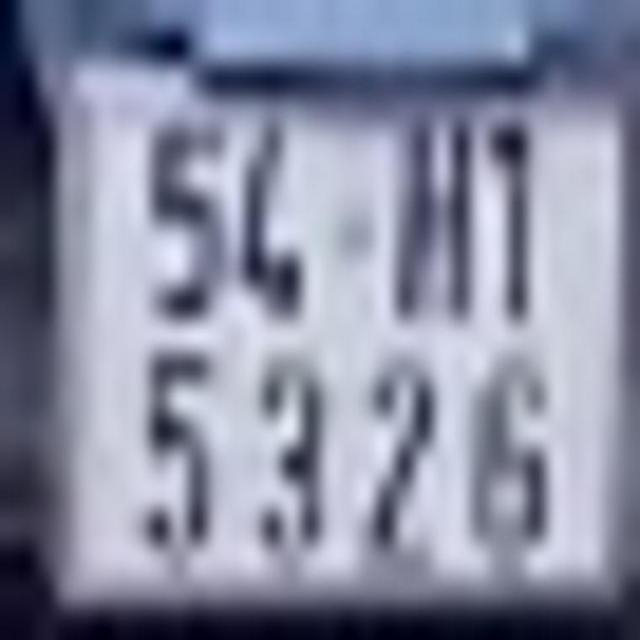1: (491, 114, 536, 333)
2: (365, 364, 431, 551)
3: (260, 358, 328, 556)
4: (242, 125, 312, 322)
5: (148, 111, 226, 323), (143, 351, 215, 563)
6: (477, 355, 547, 559)
H: (405, 120, 478, 329)
